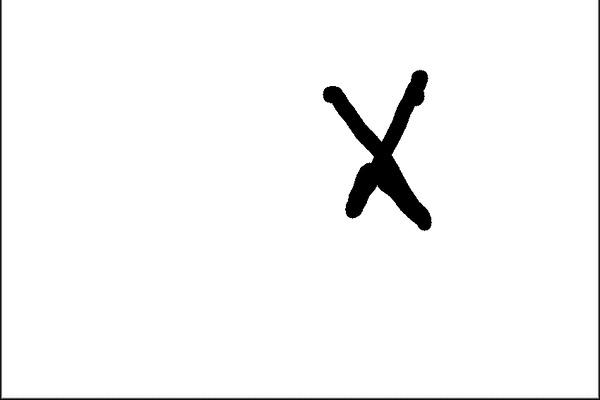X: (305, 55, 440, 239)
